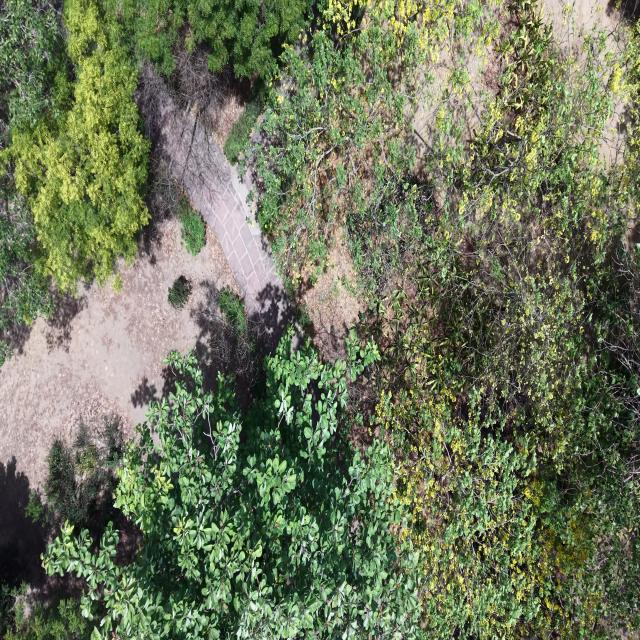DRY_AREA: (0, 99, 290, 588), (0, 106, 288, 588), (0, 82, 291, 514), (0, 79, 292, 485), (0, 82, 292, 486), (0, 193, 280, 587), (0, 197, 237, 598), (0, 219, 237, 487), (139, 66, 302, 351), (140, 67, 293, 350), (140, 67, 293, 346), (161, 103, 282, 312), (406, 31, 499, 159), (407, 26, 500, 154), (409, 29, 502, 155), (406, 41, 494, 157), (303, 229, 366, 359), (541, 0, 626, 77), (0, 461, 46, 586), (541, 0, 620, 50)
PATHWAYS: (153, 83, 293, 349)
VEGETATION_TREE: (0, 0, 639, 639), (255, 3, 639, 638), (378, 4, 639, 637), (44, 331, 419, 638), (250, 2, 496, 303), (0, 0, 148, 333), (0, 0, 149, 330), (253, 24, 414, 291), (3, 0, 149, 291), (109, 0, 311, 80), (25, 415, 123, 539), (0, 0, 67, 149), (0, 0, 68, 141), (42, 416, 124, 528), (197, 286, 266, 406), (0, 177, 53, 332), (110, 0, 185, 77), (211, 286, 264, 388), (45, 439, 100, 525), (3, 590, 93, 639), (224, 96, 262, 164), (178, 195, 205, 255), (218, 287, 248, 334), (0, 584, 19, 637), (168, 275, 192, 309), (0, 341, 12, 365)
